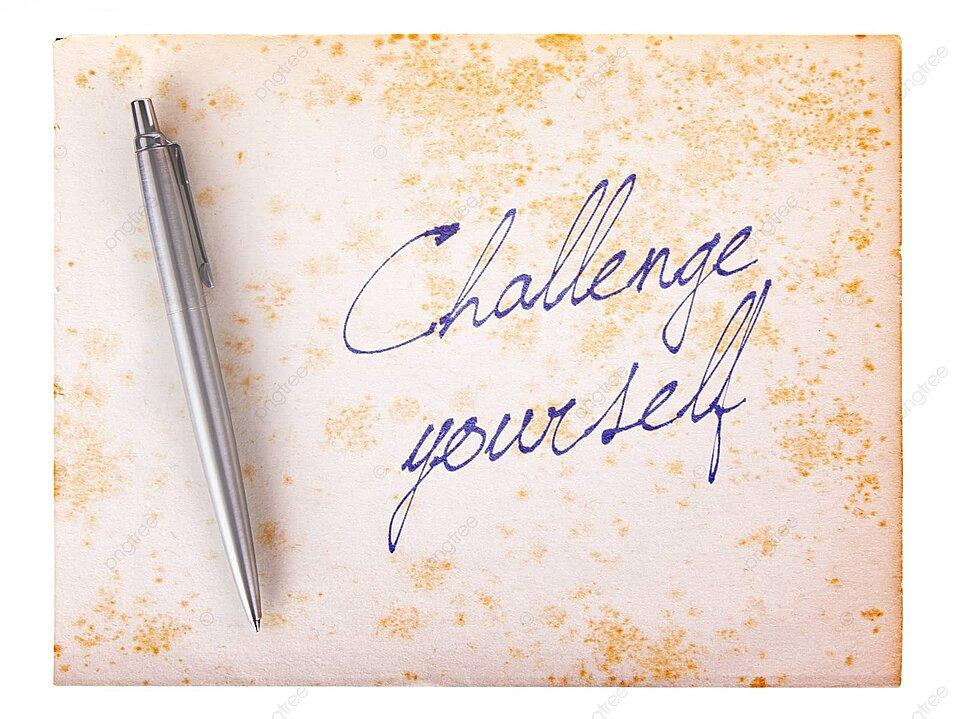text: (384, 276, 777, 559), (335, 168, 764, 359)
